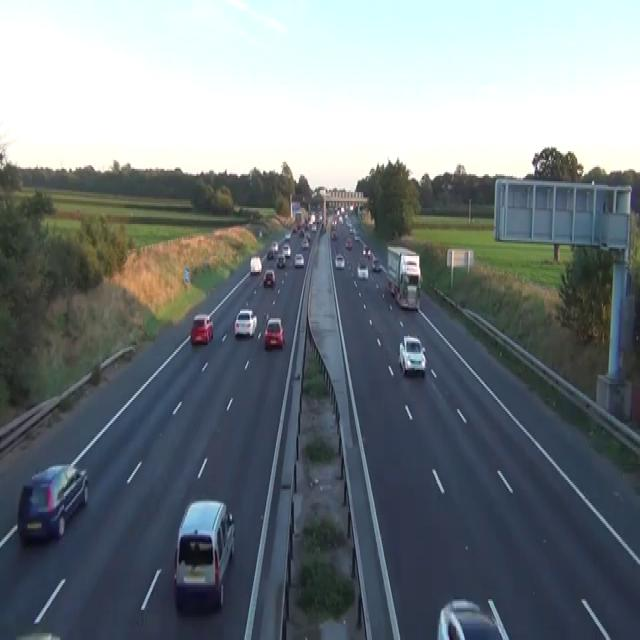Car: (173, 498, 235, 612), (17, 462, 88, 544), (437, 598, 508, 638), (398, 334, 426, 375), (190, 313, 213, 345), (233, 308, 257, 336), (264, 316, 284, 348), (14, 631, 61, 638), (632, 311, 639, 356), (249, 256, 262, 274), (263, 268, 275, 286), (357, 261, 368, 279), (334, 252, 345, 268), (276, 252, 285, 268), (388, 281, 397, 297), (294, 252, 304, 266), (371, 258, 381, 272), (282, 242, 291, 256), (344, 236, 352, 249), (362, 244, 370, 256), (301, 238, 309, 249), (271, 240, 278, 252), (331, 229, 338, 240), (266, 249, 273, 259), (345, 218, 351, 228), (284, 230, 291, 238), (310, 222, 316, 231), (354, 233, 360, 242), (304, 231, 310, 240), (362, 244, 367, 254), (350, 226, 356, 234), (367, 247, 371, 258), (298, 230, 304, 237), (317, 214, 322, 222), (340, 204, 344, 213), (322, 224, 326, 233), (292, 226, 297, 233), (258, 228, 262, 236), (349, 202, 353, 210)
Truck: (386, 243, 422, 310)
